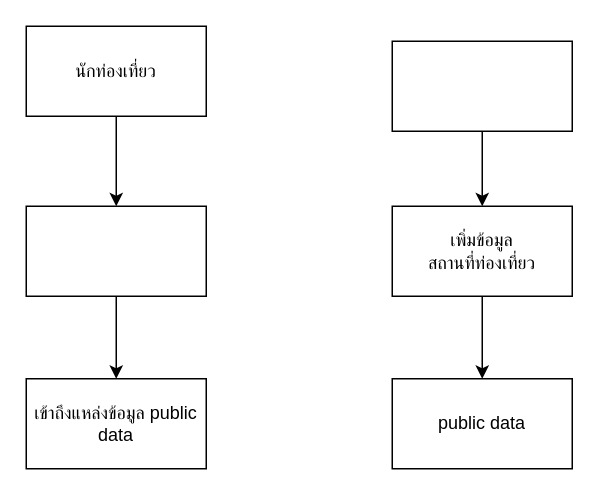
The diagram is 599 pixels wide and 495 high, and some of its shapes have lost their labels. Here are the shapes that lost their labels. From the top down, the centre of each, then its label:
the point at 481,85: เทศบาล
the point at 115,250: scan barcode จากแหล่งท่องเที่ยว
